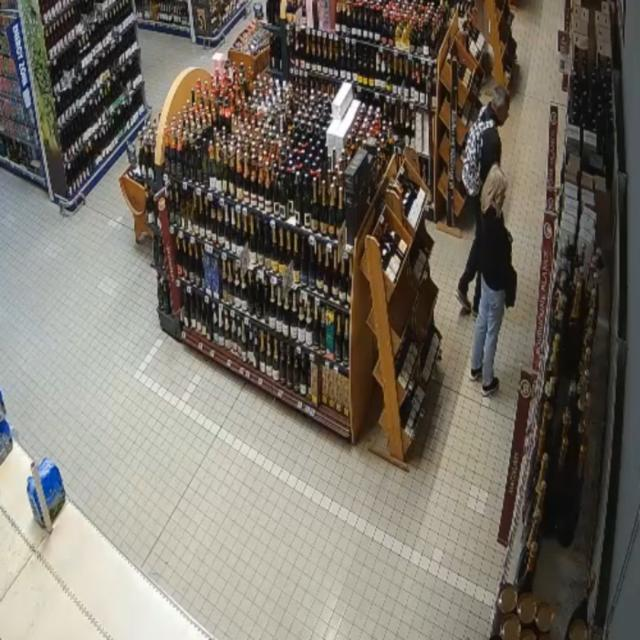bags: (462, 107, 495, 195), (505, 265, 517, 308)
person: (457, 86, 510, 314), (471, 165, 511, 396)
